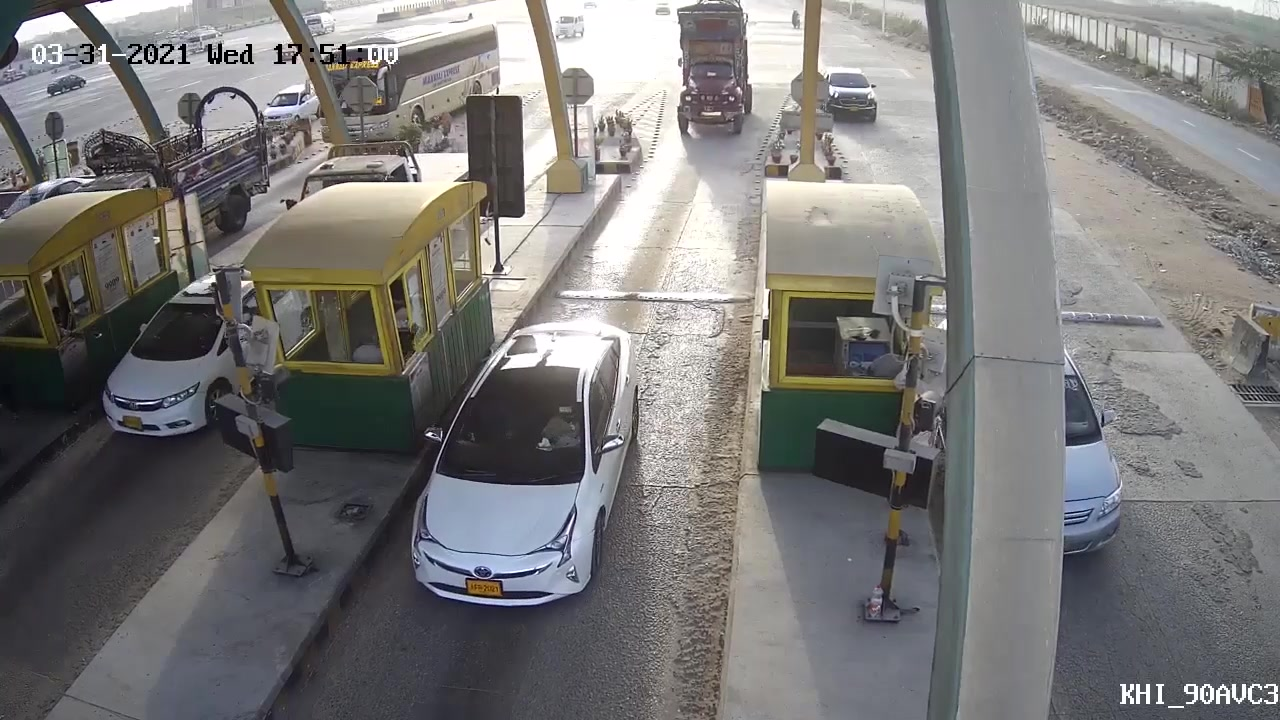F1: (404, 321, 676, 613)
F5: (669, 1, 758, 140)
